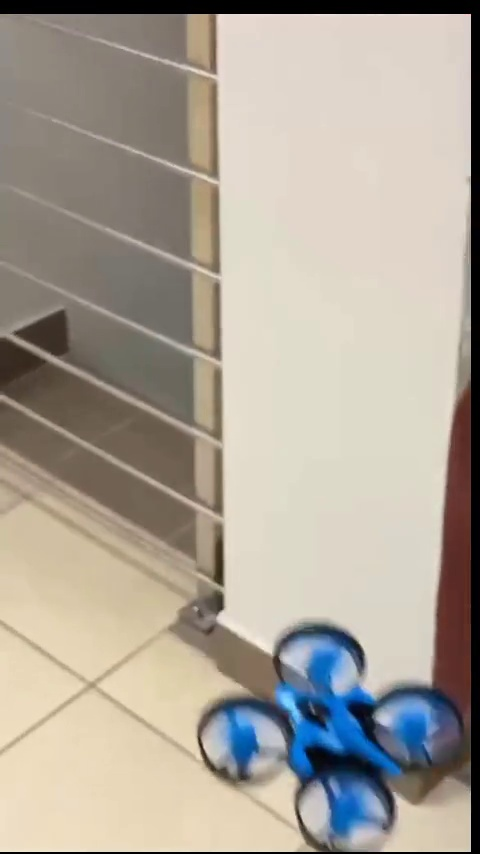drone: (192, 623, 463, 851)
